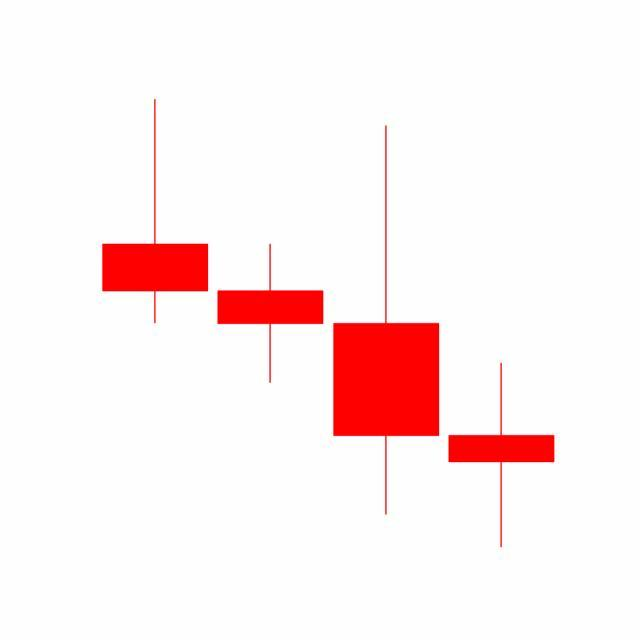Spinning Top: (444, 361, 560, 551)
